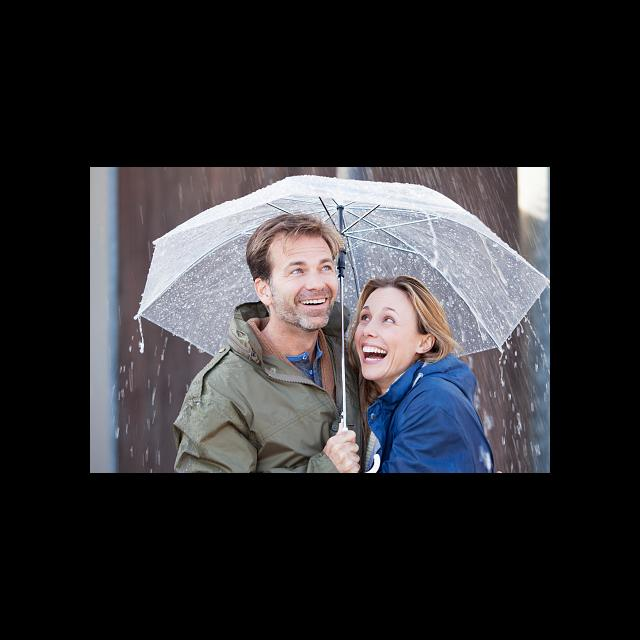female: (352, 253, 460, 383)
male: (239, 220, 350, 337)
